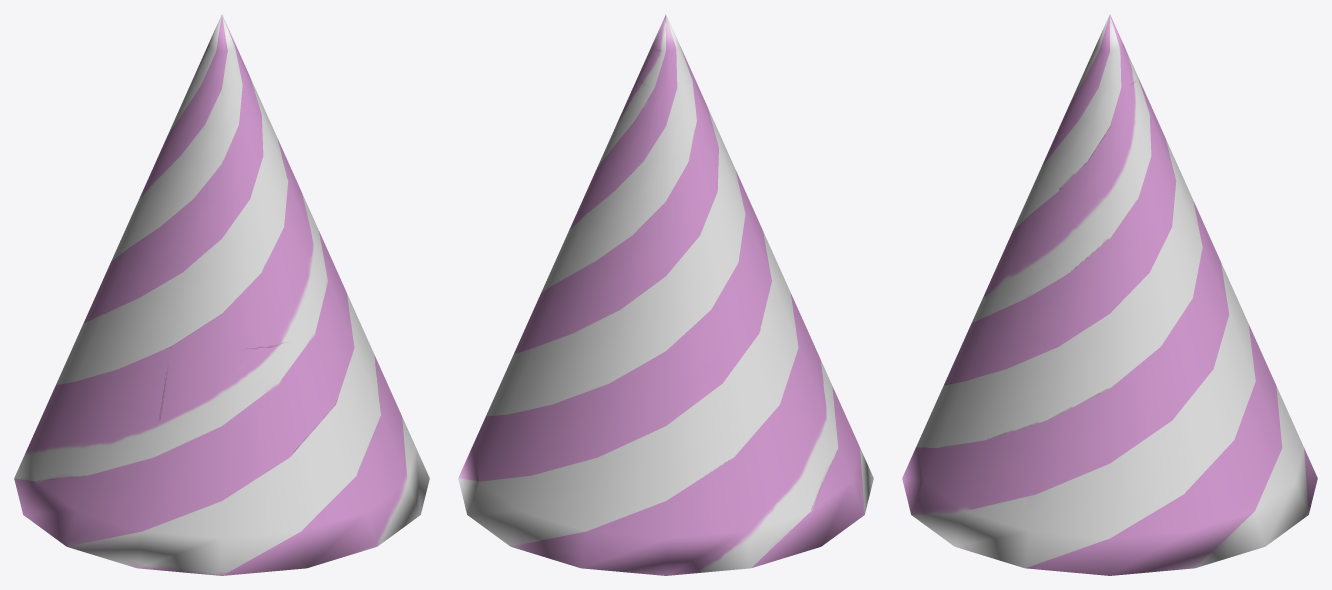
Rendered from Pincho1.fbx.
The picture shows the model from 3 angles, left to right: view 1: azimuth 30°, elevation 25°; view 2: azimuth 150°, elevation 25°; view 3: azimuth 270°, elevation 25°; orthographic projection.
Visible parts, largest first — view 1: Pincho; view 2: Pincho; view 3: Pincho.
Boxes of the visible parts, <box> form: Pincho: <box>14,14,429,575</box>; Pincho: <box>458,14,873,575</box>; Pincho: <box>902,14,1317,575</box>.
Size of the model in its own units: 79.13 by 100 by 79.56.
